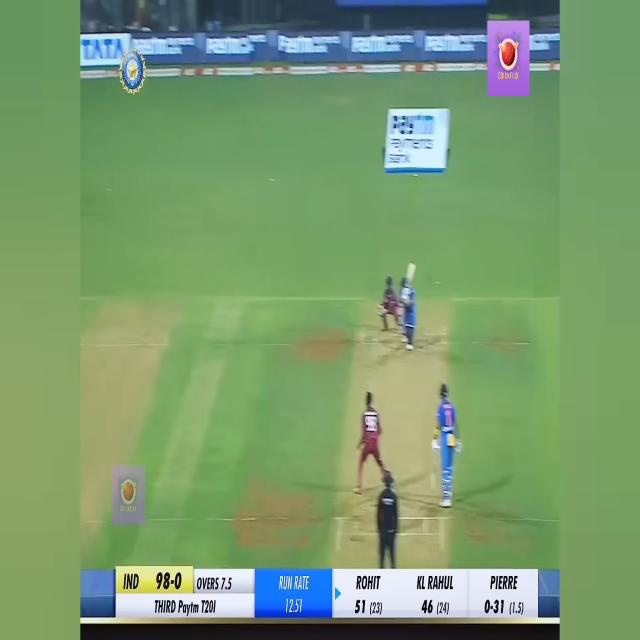partially_visible: (387, 108, 440, 141)
